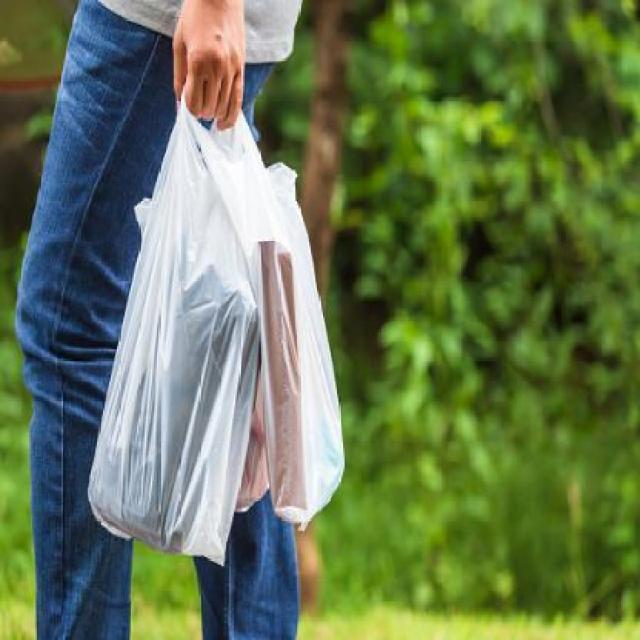plastic bag: (85, 70, 269, 578), (214, 88, 375, 543)
